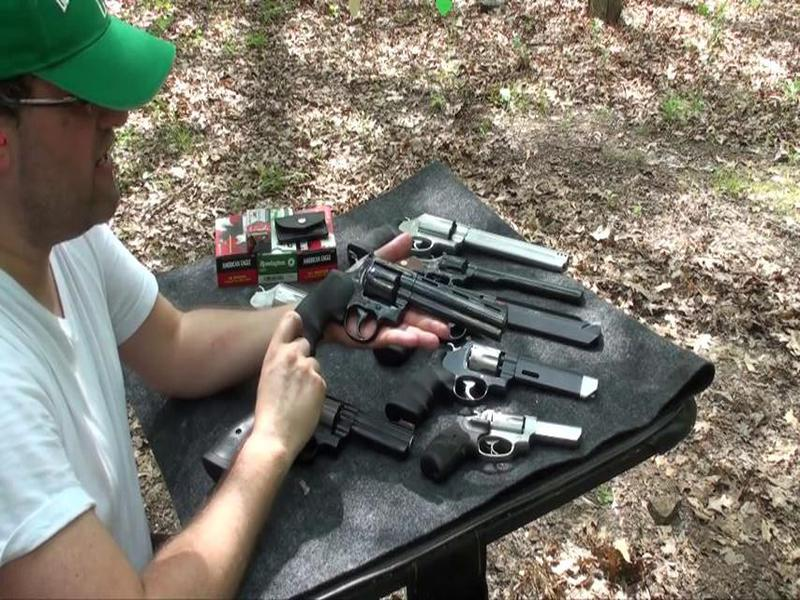Revolver: (265, 242, 532, 384)
